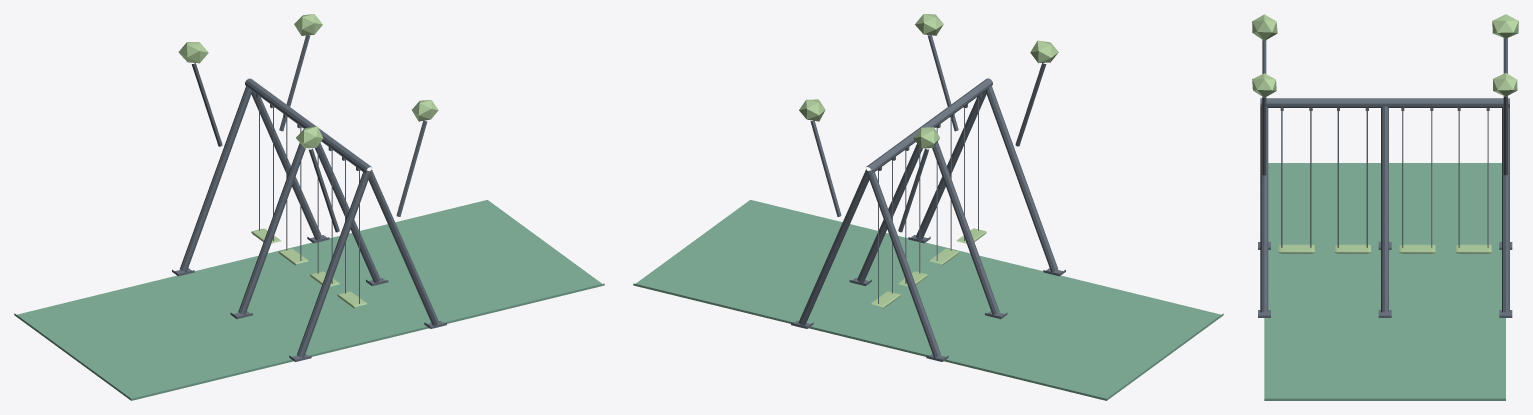
3 renders of one model, left to right at view 1: azimuth 30°, elevation 25°; view 2: azimuth 150°, elevation 25°; view 3: azimuth 270°, elevation 25°, orthographic. The views are drawn at different scales.
Parts seen in each view (by area): view 1: Safety_Pad, Swing_Frame, Tree_Forks, Foliage_Crowns; view 2: Safety_Pad, Swing_Frame, Foliage_Crowns, Tree_Forks; view 3: Safety_Pad, Swing_Frame, Foliage_Crowns, Tree_Forks, Swing1_Chains, Swing2_Chains, Swing3_Chains, Swing4_Chains, Swing1_Seat, Swing2_Seat, Swing4_Seat, Swing3_Seat.
Part boxes in pixels (left/top/right/bottom): Safety_Pad: left=14, top=200, right=604, bottom=400; Swing_Frame: left=172, top=78, right=446, bottom=361; Tree_Forks: left=191, top=35, right=427, bottom=232; Foliage_Crowns: left=178, top=14, right=438, bottom=148; Safety_Pad: left=633, top=200, right=1223, bottom=400; Swing_Frame: left=791, top=78, right=1065, bottom=361; Foliage_Crowns: left=799, top=14, right=1058, bottom=148; Tree_Forks: left=810, top=35, right=1046, bottom=232; Safety_Pad: left=1264, top=163, right=1505, bottom=400; Swing_Frame: left=1258, top=98, right=1512, bottom=317; Foliage_Crowns: left=1252, top=14, right=1518, bottom=97; Tree_Forks: left=1262, top=38, right=1507, bottom=175; Swing1_Chains: left=1458, top=111, right=1488, bottom=247; Swing2_Chains: left=1402, top=111, right=1432, bottom=247; Swing3_Chains: left=1337, top=111, right=1367, bottom=247; Swing4_Chains: left=1281, top=111, right=1311, bottom=247; Swing1_Seat: left=1455, top=244, right=1491, bottom=253; Swing2_Seat: left=1399, top=244, right=1435, bottom=253; Swing4_Seat: left=1278, top=244, right=1314, bottom=253; Swing3_Seat: left=1334, top=244, right=1370, bottom=253.
Size of what is drawn, in the model's own units: 7 by 3.24 by 3.31.
Materials: 4 (2 with a texture image).
